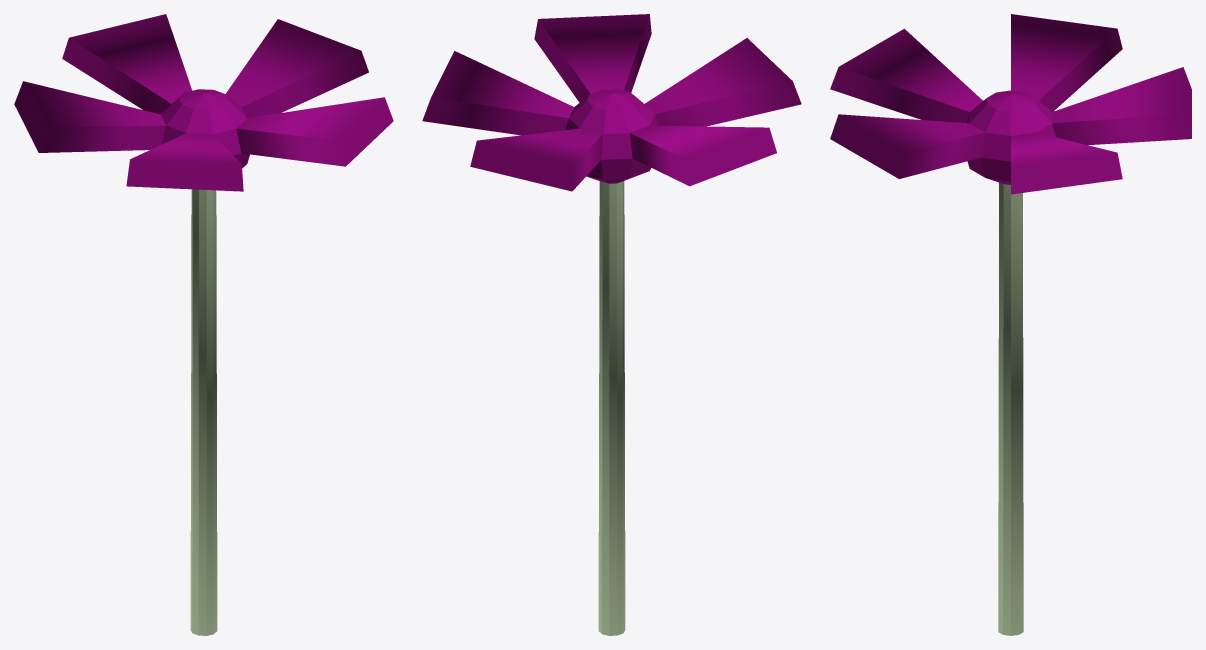
File: geo_flower_01.fbx
3 renders of one model, left to right at view 1: azimuth 30°, elevation 25°; view 2: azimuth 150°, elevation 25°; view 3: azimuth 270°, elevation 25°, orthographic.
Parts seen in each view (by area): view 1: geo_plantShrub_04; view 2: geo_plantShrub_04; view 3: geo_plantShrub_04.
Boxes of the visible parts, bbox=[...] form: geo_plantShrub_04: bbox=[14, 14, 393, 635]; geo_plantShrub_04: bbox=[422, 14, 801, 635]; geo_plantShrub_04: bbox=[830, 14, 1191, 635].
Size of the model in its own units: 11.82 by 18.6 by 11.24.
